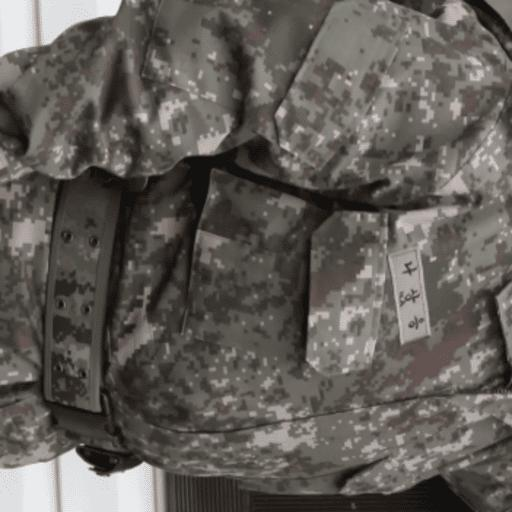korea army: (0, 0, 511, 509)
